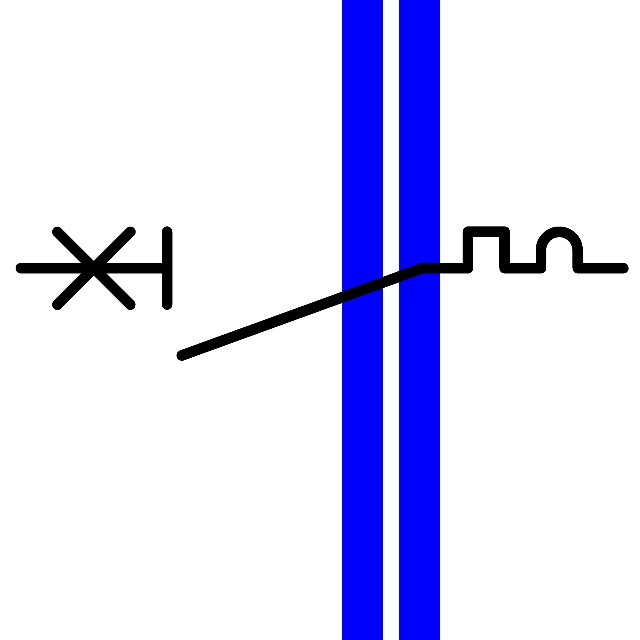interruptor_termomagnetico: (5, 216, 639, 371)
